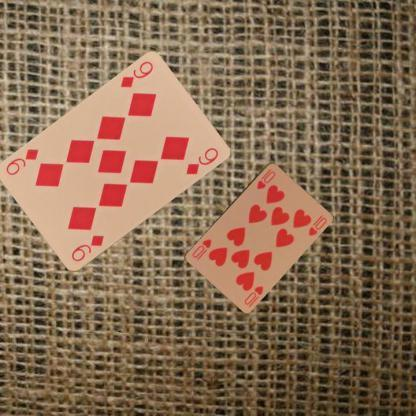10h: (254, 166, 277, 190), (242, 283, 264, 306)
9d: (68, 232, 106, 264), (118, 58, 154, 90)
